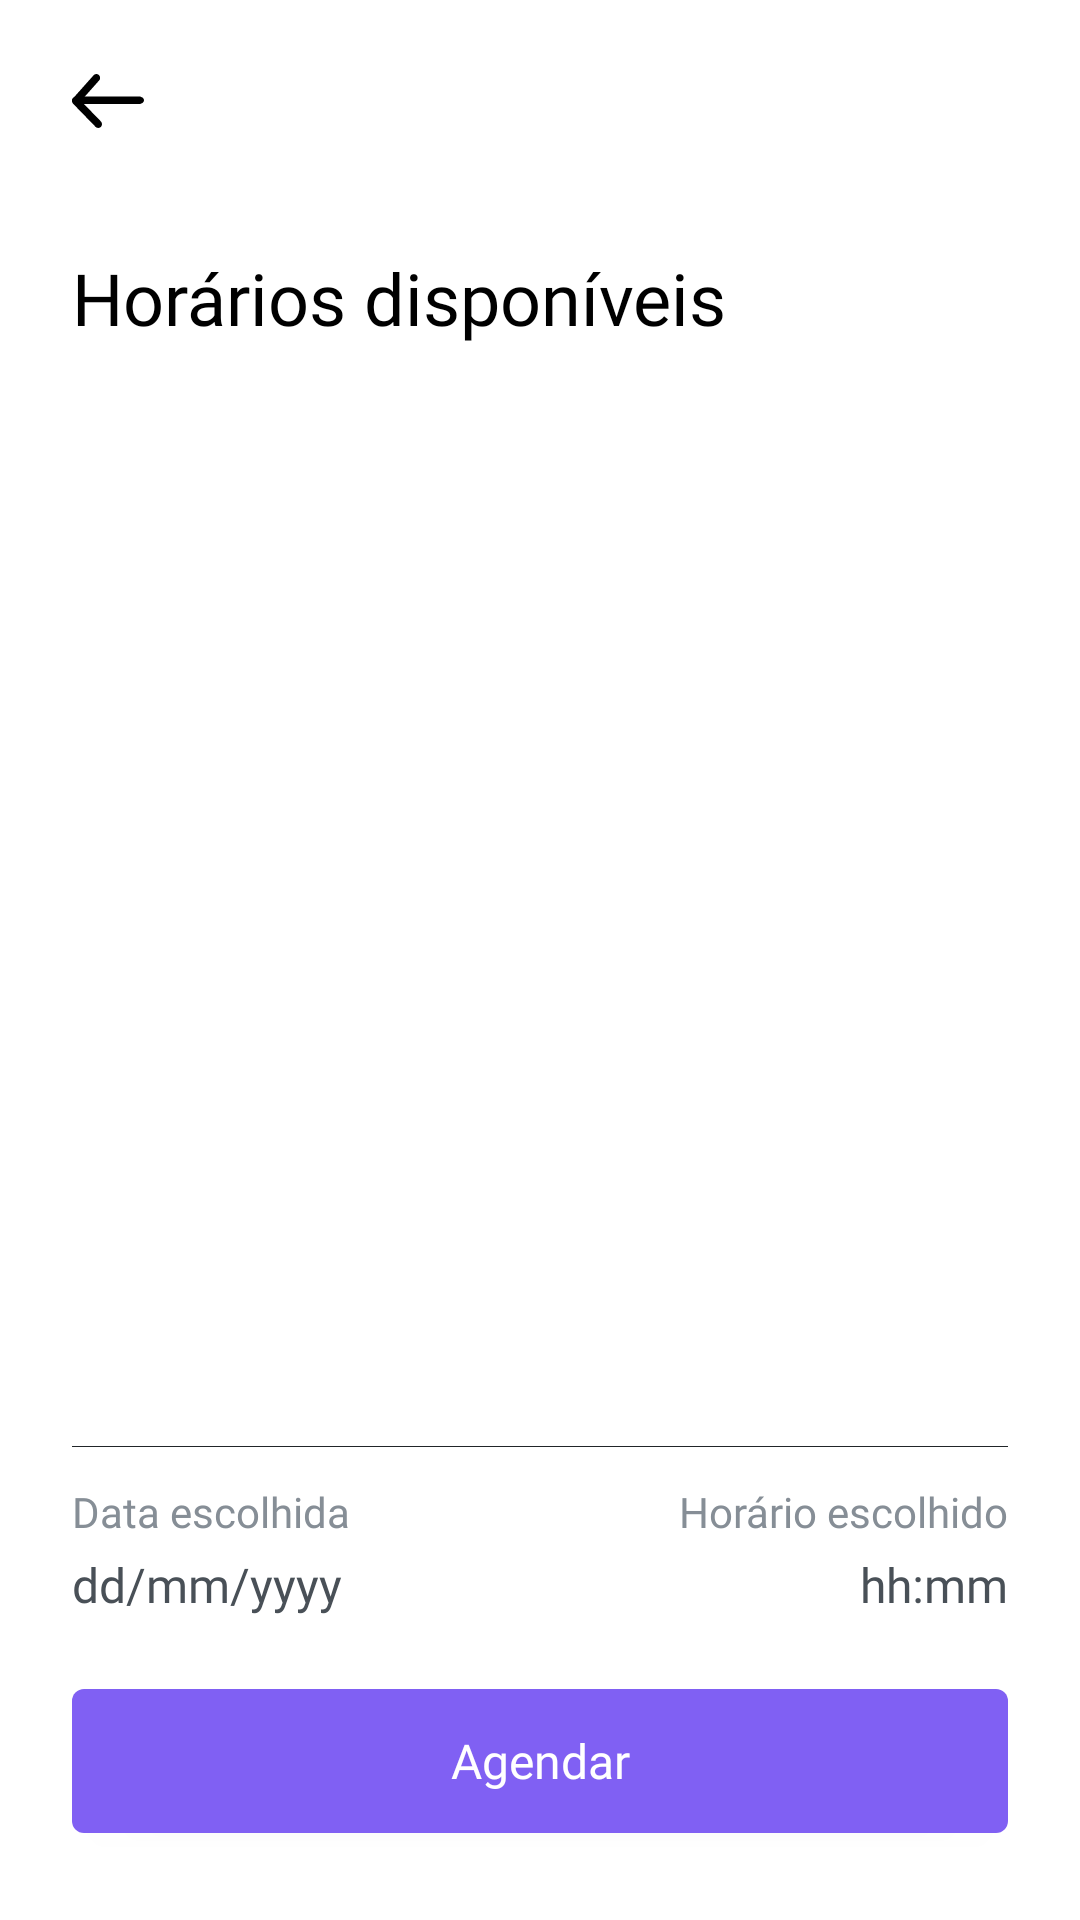

Screen size 1080×1920. Icon name, then its center in pixels as point (x, y):
left arrow: point (108, 101)
